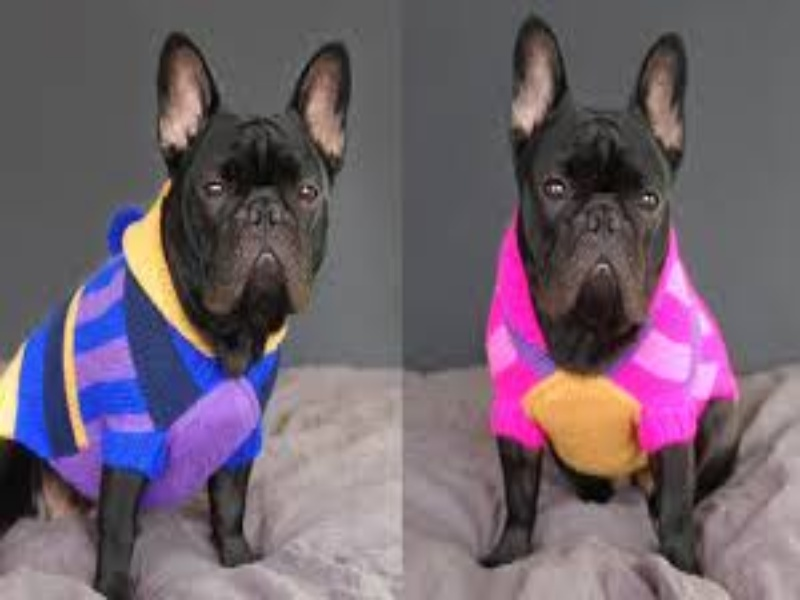dog: (39, 25, 366, 600), (481, 14, 775, 585)
